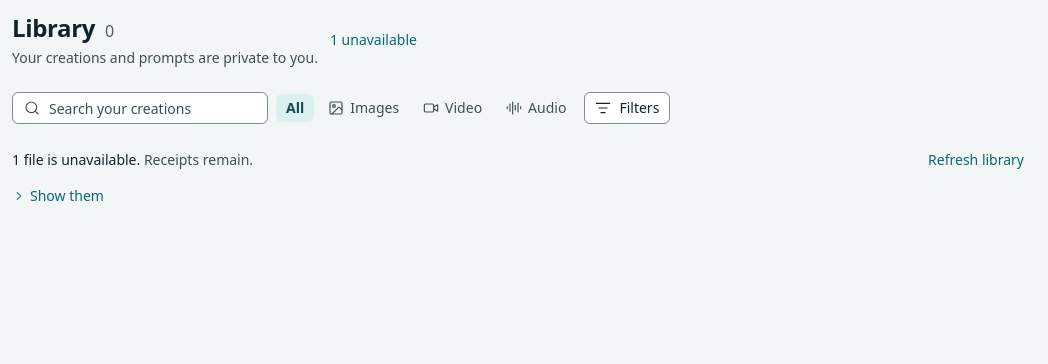
Test: shows unavailable reason source_unavailable with a working retry
Step 1. Click the heading "Show them" → coordinates (58, 196), box [12, 180, 104, 212]
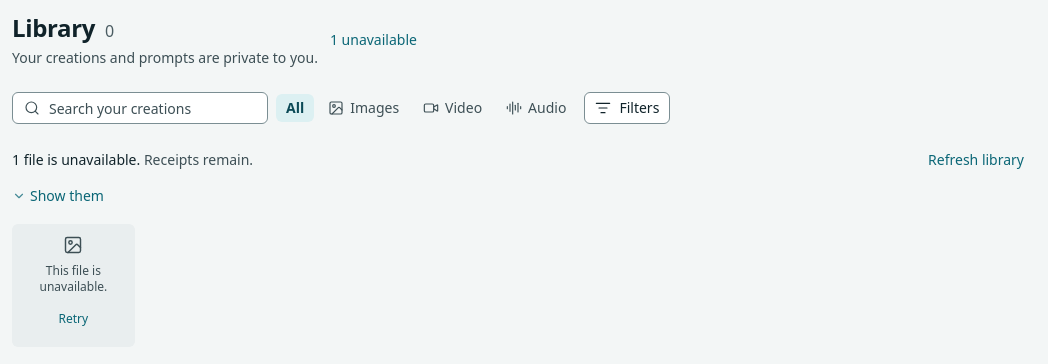
Now the text "This file is unavailable." is shown, box [40, 262, 107, 295]
Step 2. Click the button "Retry" → coordinates (73, 319), box [50, 303, 96, 335]
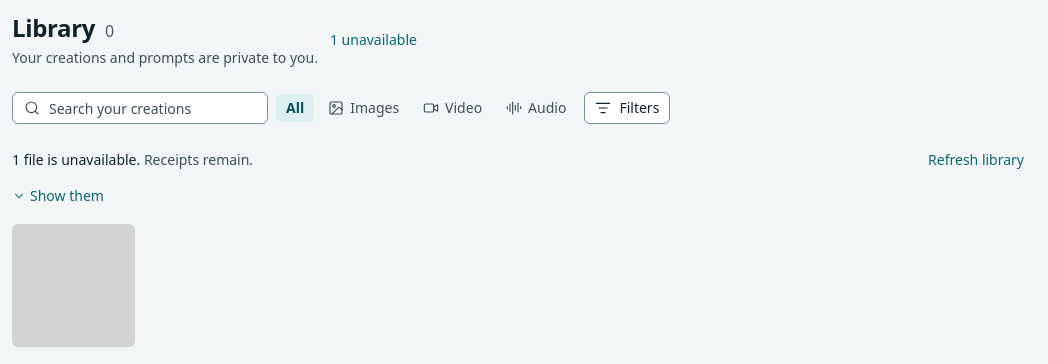
Now the text "This file is unavailable." is gone
